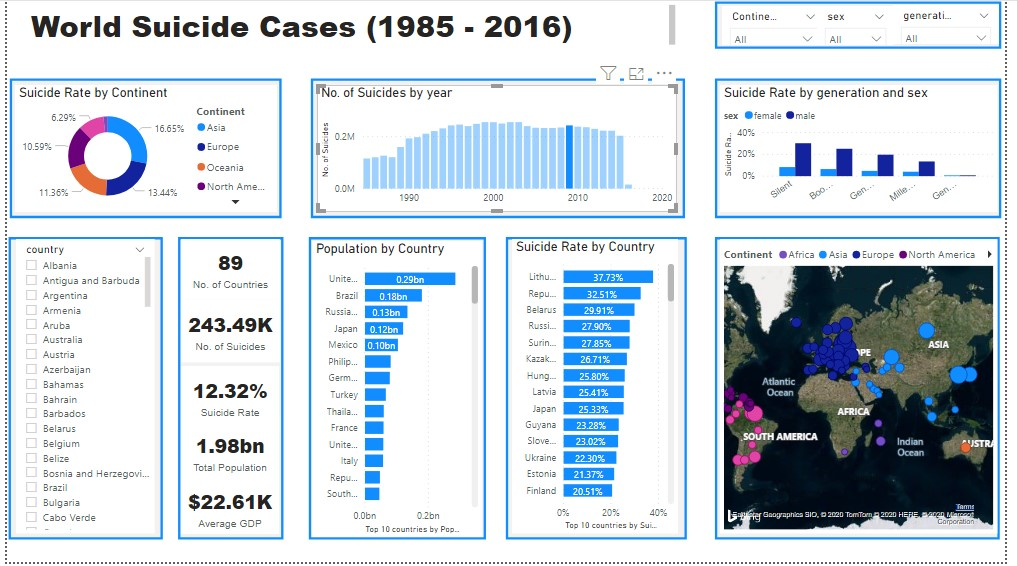

This screenshot's page, from the dashboard's own definition file:
{"tool":"powerbi","page":{"name":"Page 1","canvas":[1280,720],"ordinal":0},"visuals":[{"type":"basicShape","box":[0,299,201.6,396.4],"z":0},{"type":"basicShape","box":[218.4,299,137.7,396.4],"z":1000},{"type":"basicShape","box":[384.7,299,231.8,396.4],"z":2000},{"type":"basicShape","box":[638.3,299,236.9,396.4],"z":3000},{"type":"basicShape","box":[905.4,299,372.9,396.4],"z":4000},{"type":"basicShape","box":[905.4,97.4,374.6,183.1],"z":5000},{"type":"basicShape","box":[384.7,97.4,490.5,183.1],"z":6000},{"type":"basicShape","box":[0,97.4,356.1,183.1],"z":7000},{"type":"basicShape","box":[905.4,0,374.6,62.2],"z":8000},{"type":"slicer","fields":{"Values":["master.country"]},"box":[11.8,305.7,178.1,378],"z":9000},{"type":"card","fields":{"Values":["Key Measure.No. of Suicides"]},"box":[223,384,126.6,79.8],"z":10000},{"type":"slicer","fields":{"Values":["master.generation"]},"box":[1137.2,5,136.1,50.4],"z":11000},{"type":"card","fields":{"Values":["Key Measure.No. of Countries"]},"box":[223,305.5,126.6,78.5],"z":12000},{"type":"card","fields":{"Values":["Key Measure.Suicide Rate"]},"box":[223.4,468.2,126,80.6],"z":13000},{"type":"slicer","fields":{"Values":["master.Continent"]},"box":[917.2,6.7,132.7,50.4],"z":14000},{"type":"clusteredBarChart","title":"Suicide Rate by Country","fields":{"Category":["Countries.country"],"Y":["Key Measure.Top 10 countries by Suicide Rate"]},"box":[648.4,305.7,213.3,378],"z":15000},{"type":"clusteredBarChart","title":"Population by Country","fields":{"Category":["Countries.country"],"Y":["Key Measure.Top 10 countries by Population"]},"box":[391.4,307.4,218.4,379.6],"z":16000},{"type":"donutChart","title":"Suicide Rate by Continent","fields":{"Category":["Continents.Continent"],"Y":["Key Measure.Suicide Rate"]},"box":[10.1,107.5,336,162.9],"z":17000},{"type":"lineClusteredColumnComboChart","fields":{"Category":["master.generation"],"Series":["master.sex"],"Y":["Key Measure.Suicide Rate"]},"box":[915.5,107.5,356.1,162.9],"z":18000},{"type":"card","fields":{"Values":["Key Measure.Total Population"]},"box":[223.4,539.2,126,80.6],"z":19000},{"type":"card","fields":{"Values":["Key Measure.Average GDP"]},"box":[223.4,619.8,126,63.8],"z":20000},{"type":"lineClusteredColumnComboChart","fields":{"Category":["Year.year"],"Y":["Key Measure.No. of Suicides"]},"box":[398.1,107.5,461.9,162.9],"z":21000},{"type":"textbox","box":[25.2,0,836.5,62.2],"z":22000},{"type":"slicer","fields":{"Values":["master.sex"]},"box":[1039.8,6.7,99.1,50.4],"z":23000},{"type":"map","fields":{"Category":["Countries.country"],"Size":["Key Measure.Suicide Rate"],"Series":["Continents.Continent"]},"box":[915.5,305.7,356.1,378],"z":24000}]}

Visuals, with their boxes in screenshot pixels (x1, y1, x2, y2), scaled from the page's 1280x720 canvas onto the 1017x566 screenshot:
basicShape: BBox(0, 235, 160, 547)
basicShape: BBox(174, 235, 283, 547)
basicShape: BBox(306, 235, 490, 547)
basicShape: BBox(507, 235, 695, 547)
basicShape: BBox(719, 235, 1016, 547)
basicShape: BBox(719, 77, 1016, 221)
basicShape: BBox(306, 77, 695, 221)
basicShape: BBox(0, 77, 283, 221)
basicShape: BBox(719, 0, 1016, 49)
slicer - master.country: BBox(9, 240, 151, 537)
card - Key Measure.No. of Suicides: BBox(177, 302, 278, 365)
slicer - master.generation: BBox(904, 4, 1012, 44)
card - Key Measure.No. of Countries: BBox(177, 240, 278, 302)
card - Key Measure.Suicide Rate: BBox(177, 368, 278, 431)
slicer - master.Continent: BBox(729, 5, 834, 45)
"Suicide Rate by Country" clusteredBarChart: BBox(515, 240, 685, 537)
"Population by Country" clusteredBarChart: BBox(311, 242, 485, 540)
"Suicide Rate by Continent" donutChart: BBox(8, 85, 275, 213)
lineClusteredColumnComboChart - master.generation x master.sex: BBox(727, 85, 1010, 213)
card - Key Measure.Total Population: BBox(177, 424, 278, 487)
card - Key Measure.Average GDP: BBox(177, 487, 278, 537)
lineClusteredColumnComboChart - Year.year x Key Measure.No. of Suicides: BBox(316, 85, 683, 213)
textbox: BBox(20, 0, 685, 49)
slicer - master.sex: BBox(826, 5, 905, 45)
map - Countries.country x Key Measure.Suicide Rate: BBox(727, 240, 1010, 537)
